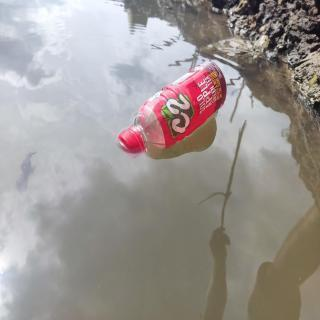bottle: (118, 57, 229, 157)
